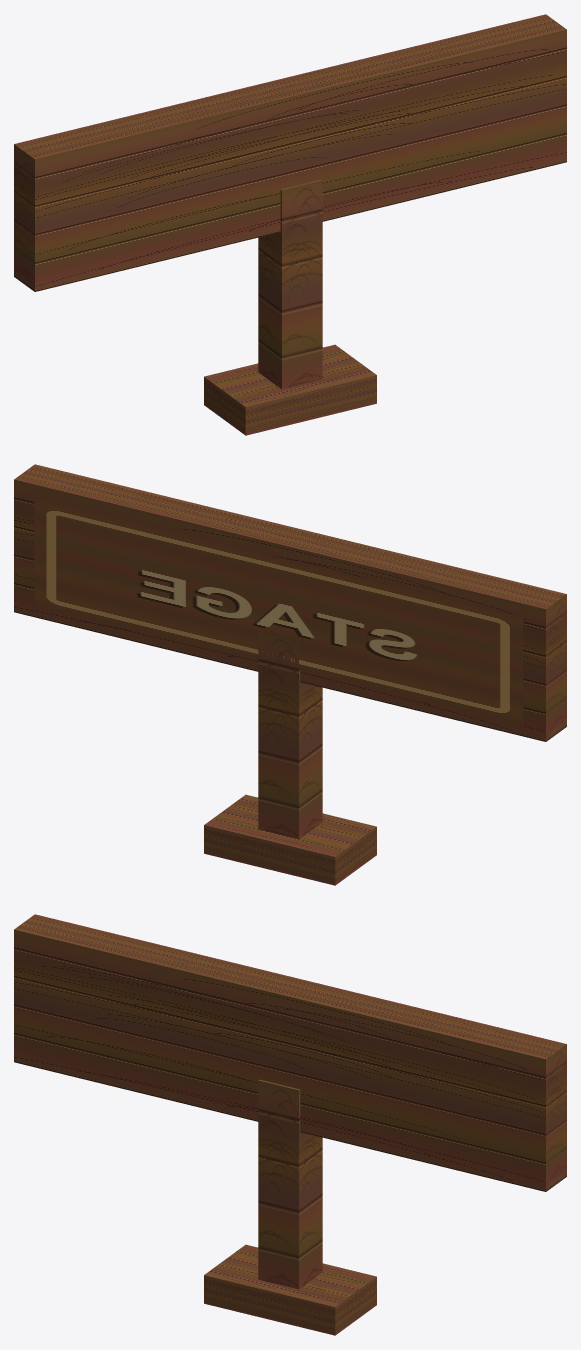
The model's file is signboard.obj.
The picture shows the model from 3 angles, top to bottom: view 1: azimuth 30°, elevation 25°; view 2: azimuth 150°, elevation 25°; view 3: azimuth 330°, elevation 25°; orthographic projection.
Bounding box in the file's own units: 2.35 × 1.34 × 0.32.
2 materials, 2 textured.
